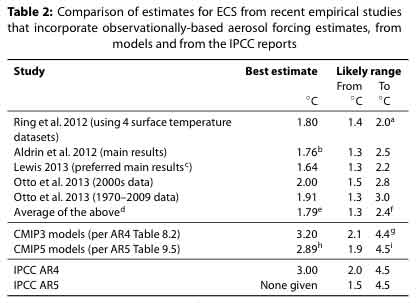fracking table: (4, 1, 410, 298)
